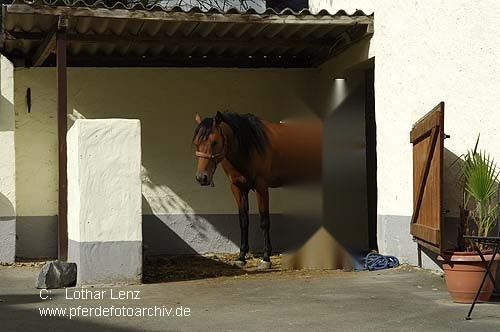horse: (192, 109, 340, 270)
pottedplant: (436, 148, 500, 306)
